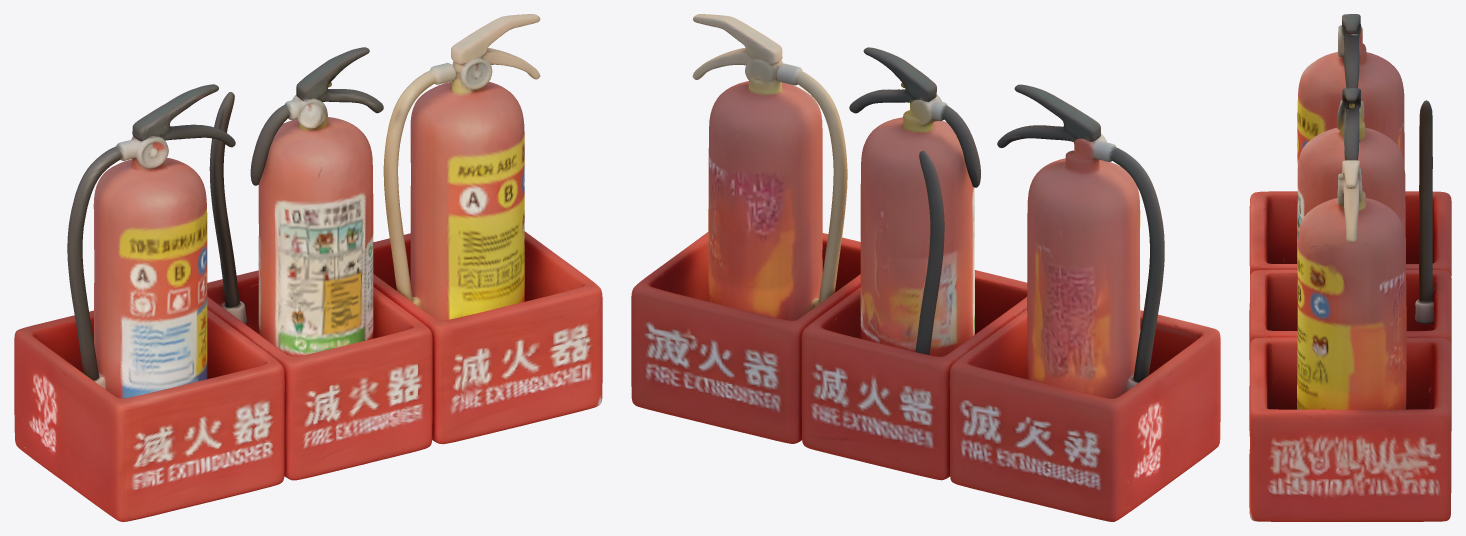
File: FireExtinguisher.fbx
The picture shows the model from 3 angles, left to right: view 1: azimuth 30°, elevation 25°; view 2: azimuth 150°, elevation 25°; view 3: azimuth 270°, elevation 25°; orthographic projection. The views are drawn at different scales.
Parts seen in each view (by area): view 1: model; view 2: model; view 3: model.
Boxes of the visible parts, bbox=[...] form: model: bbox=[14, 14, 602, 521]; model: bbox=[631, 14, 1220, 521]; model: bbox=[1249, 14, 1451, 521].
Bounding box in the file's own units: 1.07 × 0.7669 × 0.4112.
